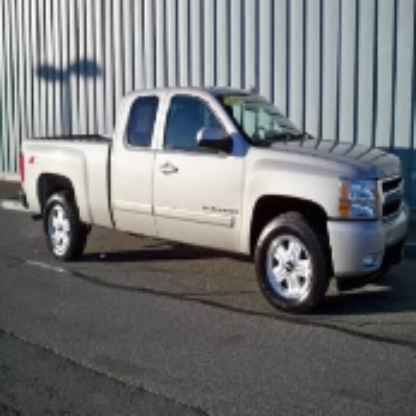Vehicle: (19, 85, 413, 318)
